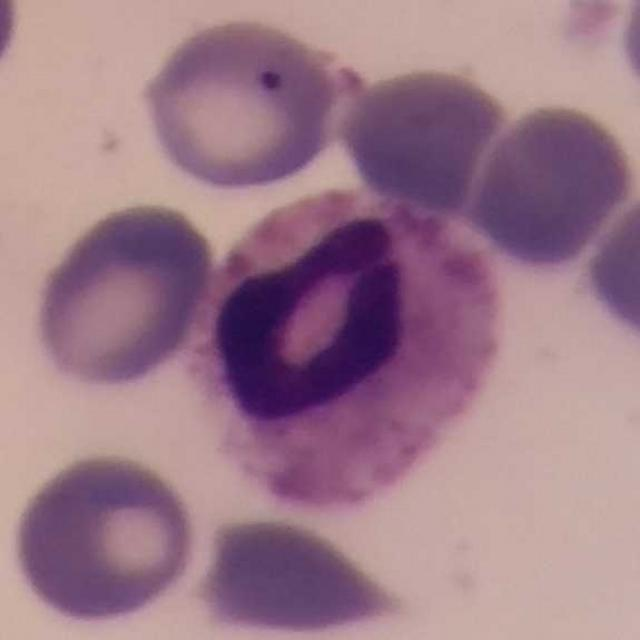Neutrophil: (185, 186, 502, 530)
RBC: (136, 11, 347, 196), (27, 197, 220, 393), (4, 446, 202, 631), (467, 98, 638, 272), (190, 510, 417, 639), (336, 61, 518, 217), (579, 182, 640, 358), (614, 1, 640, 108), (0, 0, 29, 64)
